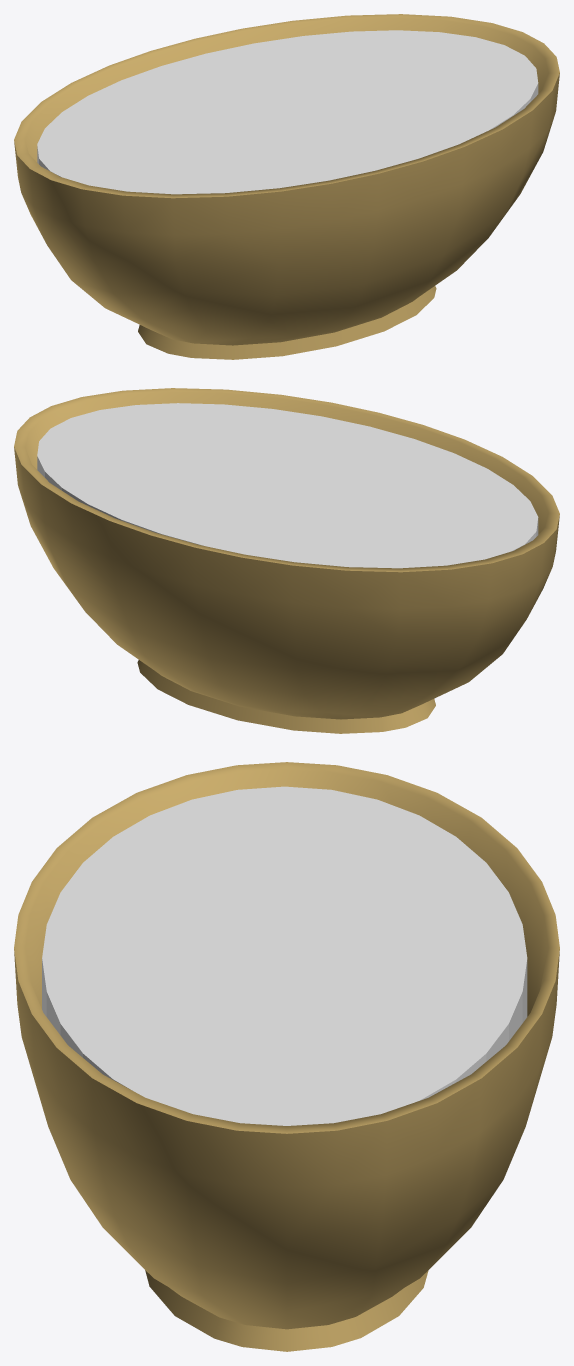
The model's file is 1_OvalPot_dirt_filled.fbx.
The picture shows the model from 3 angles, top to bottom: view 1: azimuth 30°, elevation 25°; view 2: azimuth 150°, elevation 25°; view 3: azimuth 270°, elevation 25°; orthographic projection. The views are drawn at different scales.
Parts seen in each view (by area): view 1: EmptyPotPrefab, Cylinder; view 2: EmptyPotPrefab, Cylinder; view 3: Cylinder, EmptyPotPrefab.
Boxes of the visible parts, <box> form: EmptyPotPrefab: <box>14,14,559,359</box>; Cylinder: <box>37,30,538,194</box>; EmptyPotPrefab: <box>14,388,559,733</box>; Cylinder: <box>37,403,538,568</box>; Cylinder: <box>42,786,527,1125</box>; EmptyPotPrefab: <box>14,762,559,1351</box>.
Bounding box in the file's own units: 46.83 × 17.73 × 29.06.
